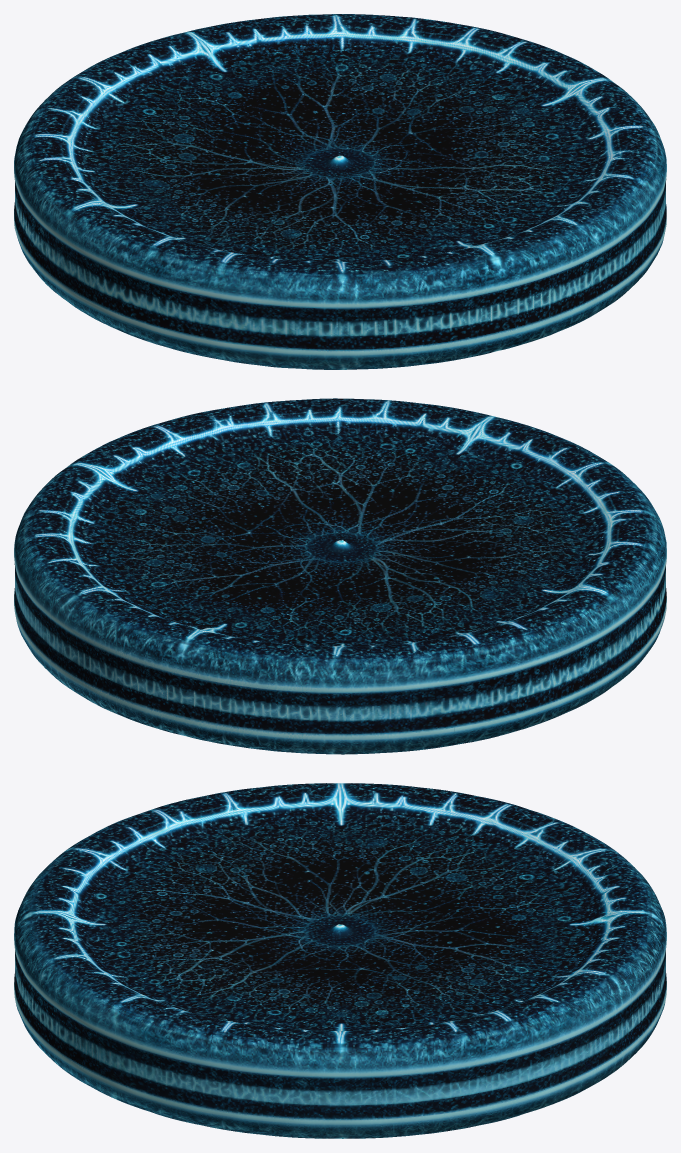
Rendered from node-routine.glb.
The picture shows the model from 3 angles, top to bottom: view 1: azimuth 30°, elevation 25°; view 2: azimuth 150°, elevation 25°; view 3: azimuth 270°, elevation 25°; orthographic projection.
Visible parts, largest first — view 1: Mesh_0; view 2: Mesh_0; view 3: Mesh_0.
Part boxes in pixels (<box>): Mesh_0: <box>14,14,666,369</box>; Mesh_0: <box>14,398,666,754</box>; Mesh_0: <box>14,783,666,1138</box>.
Bounding box in the file's own units: 1.91 × 0.3177 × 1.91.
1 material, 1 textured.
